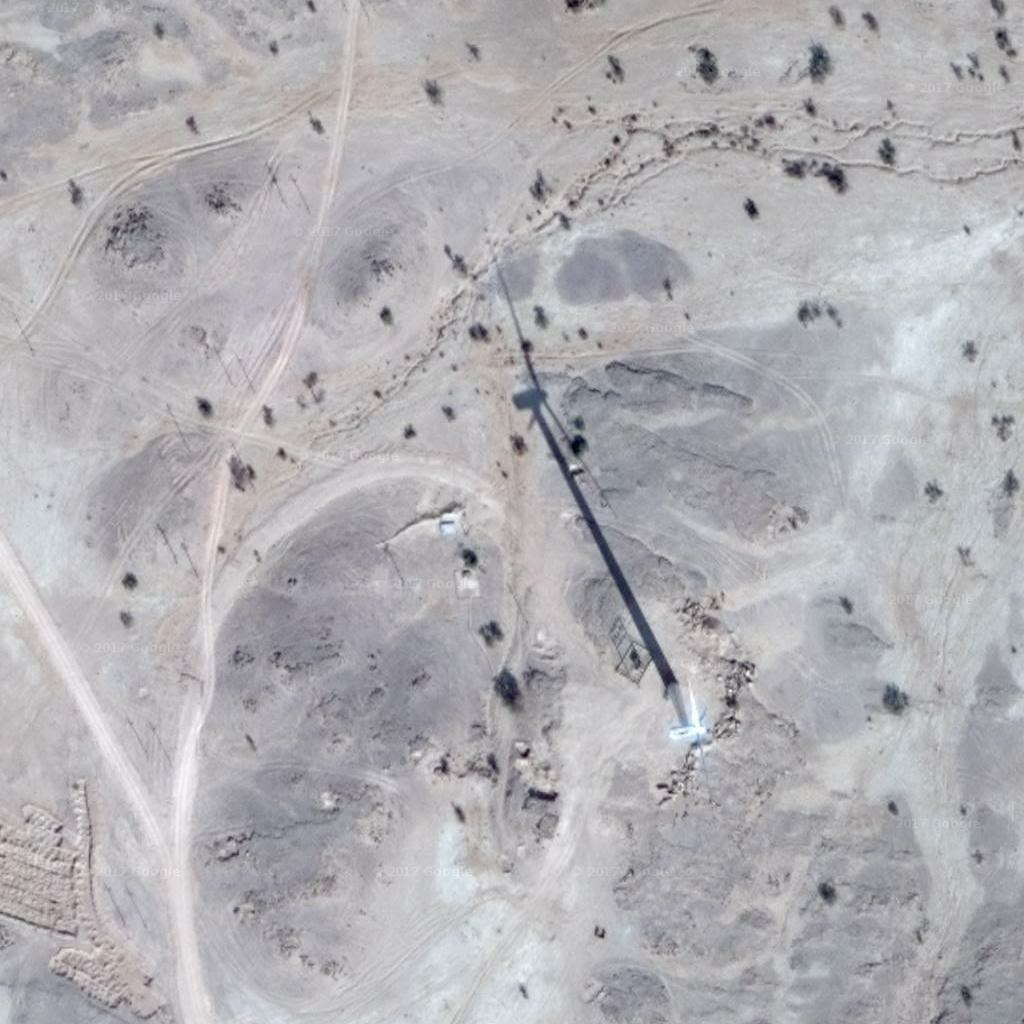Windmill: (482, 246, 652, 605)
